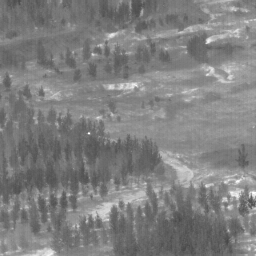aircraft: (88, 132, 90, 134)
